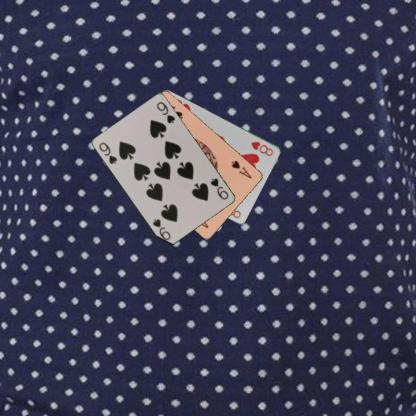8h: (249, 139, 274, 157)
9s: (208, 176, 230, 201), (97, 140, 119, 165)
As: (229, 158, 253, 180)
